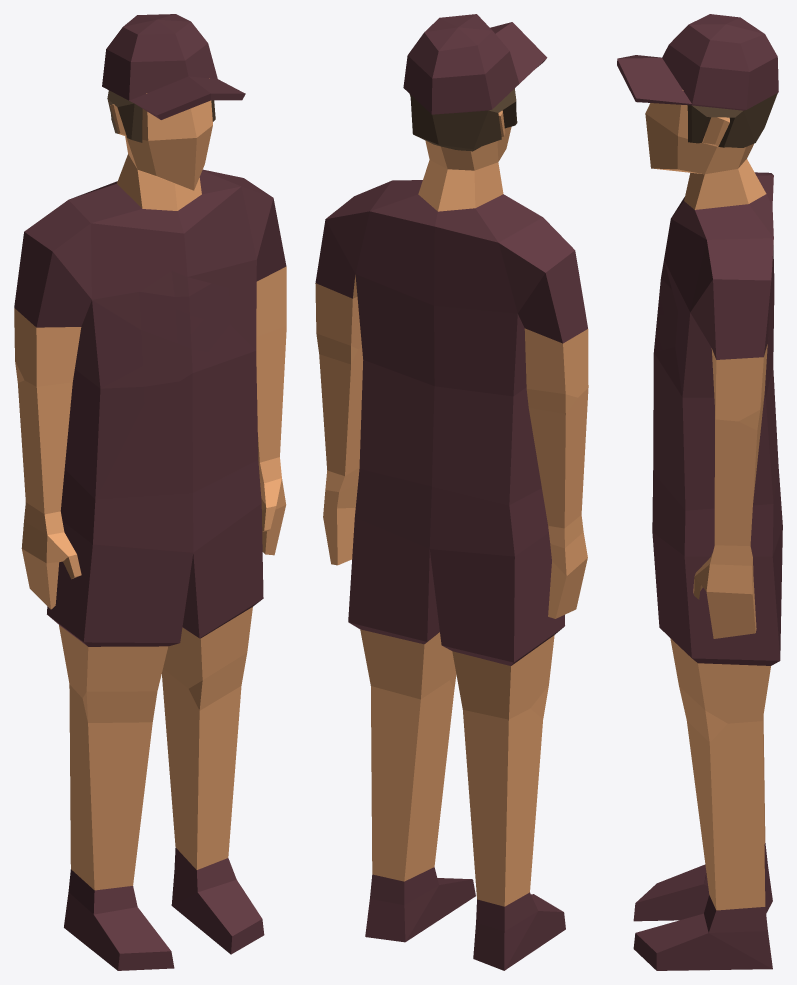
The model's file is man-pablo.fbx.
3 renders of one model, left to right at view 1: azimuth 30°, elevation 25°; view 2: azimuth 150°, elevation 25°; view 3: azimuth 270°, elevation 25°, orthographic.
Parts seen in each view (by area): view 1: man-pablo; view 2: man-pablo; view 3: man-pablo.
Part boxes in pixels (x1=…): man-pablo: x1=14, y1=14, x2=286, y2=970; man-pablo: x1=315, y1=14, x2=588, y2=970; man-pablo: x1=617, y1=14, x2=782, y2=970.
Bounding box in the file's own units: 0.5348 × 1.84 × 0.3044.
